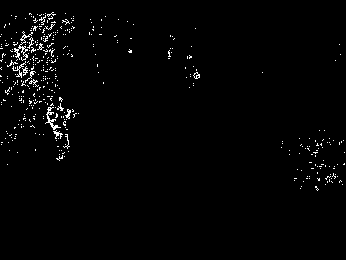person: (44, 97, 77, 163)
